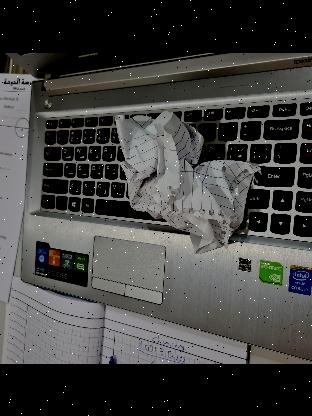Others: (118, 107, 250, 253)
